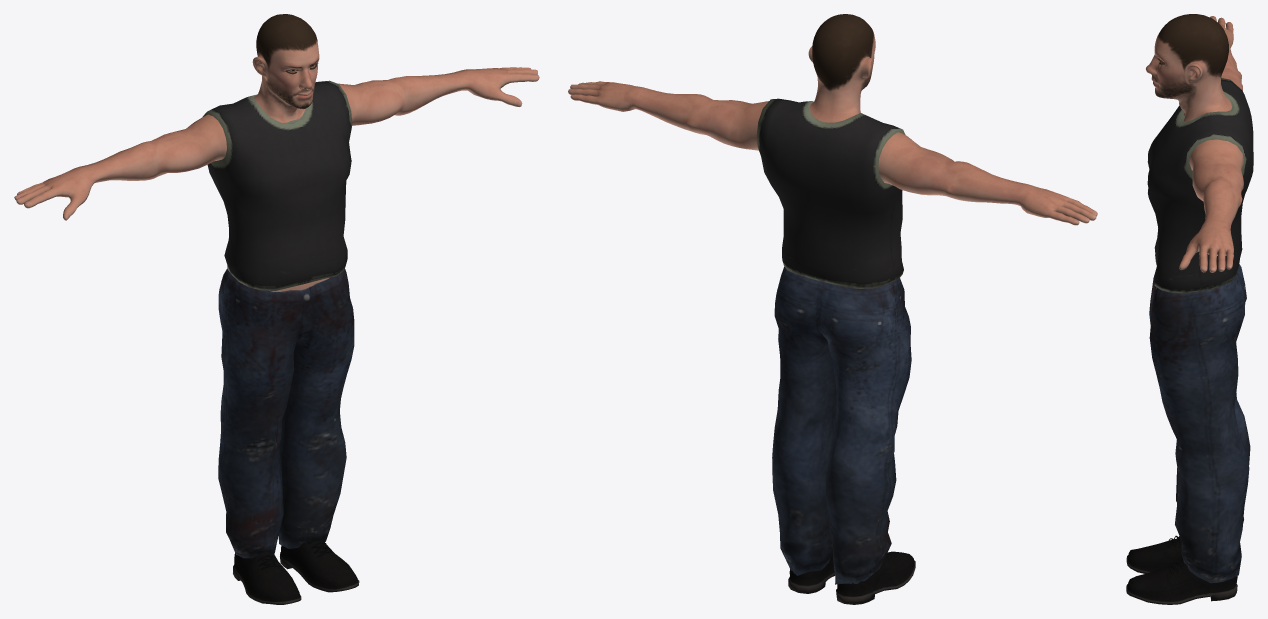
File: Player.obj
3 renders of one model, left to right at view 1: azimuth 30°, elevation 25°; view 2: azimuth 150°, elevation 25°; view 3: azimuth 270°, elevation 25°, orthographic.
Visible parts, largest first — view 1: Bottoms, Tops, Body, Shoes; view 2: Bottoms, Tops, Body, Shoes; view 3: Bottoms, Body, Tops, Shoes.
Part boxes in pixels (<box>): Bottoms: <box>218,269,354,558</box>; Tops: <box>202,80,352,290</box>; Body: <box>14,14,539,291</box>; Shoes: <box>233,540,359,604</box>; Bottoms: <box>772,266,911,584</box>; Tops: <box>756,98,905,288</box>; Body: <box>568,14,1097,225</box>; Shoes: <box>788,550,915,604</box>; Bottoms: <box>1149,264,1250,583</box>; Body: <box>1146,14,1243,272</box>; Tops: <box>1147,78,1253,293</box>; Shoes: <box>1126,535,1237,604</box>.
Size of the model in its own units: 174 by 179 by 36.57.
Materials: 1 (1 with a texture image).
